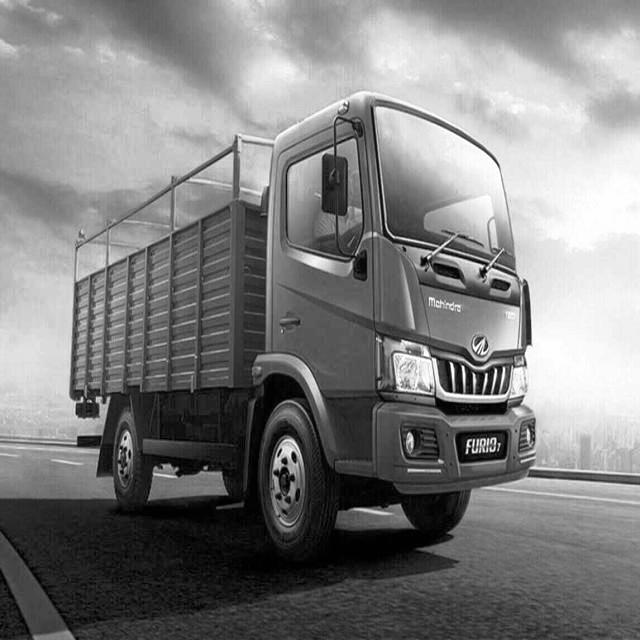HCV: (54, 73, 540, 603)
